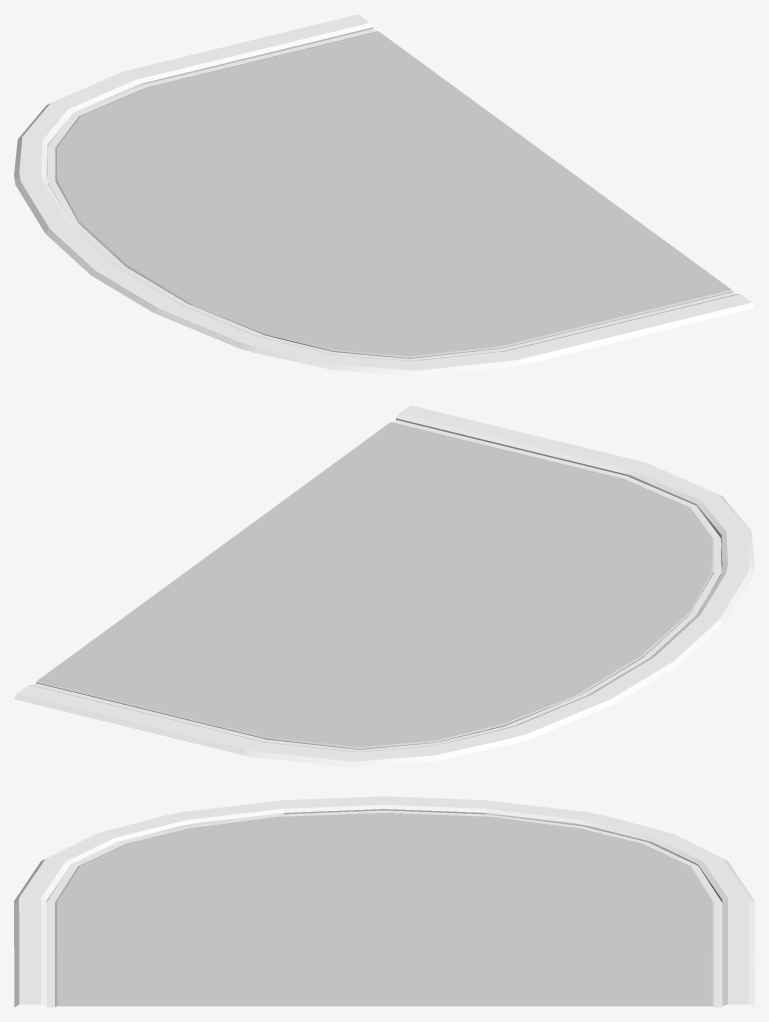
The model's file is road_end.fbx.
3 renders of one model, top to bottom at view 1: azimuth 30°, elevation 25°; view 2: azimuth 150°, elevation 25°; view 3: azimuth 270°, elevation 25°, orthographic. The views are drawn at different scales.
Visible parts, largest first — view 1: road_end; view 2: road_end; view 3: road_end.
Part boxes in pixels (x1=…): road_end: x1=14, y1=14, x2=754, y2=376; road_end: x1=14, y1=405, x2=754, y2=767; road_end: x1=14, y1=796, x2=754, y2=1007.
Bounding box in the file's own units: 4.51 × 0.0341 × 6.72.
